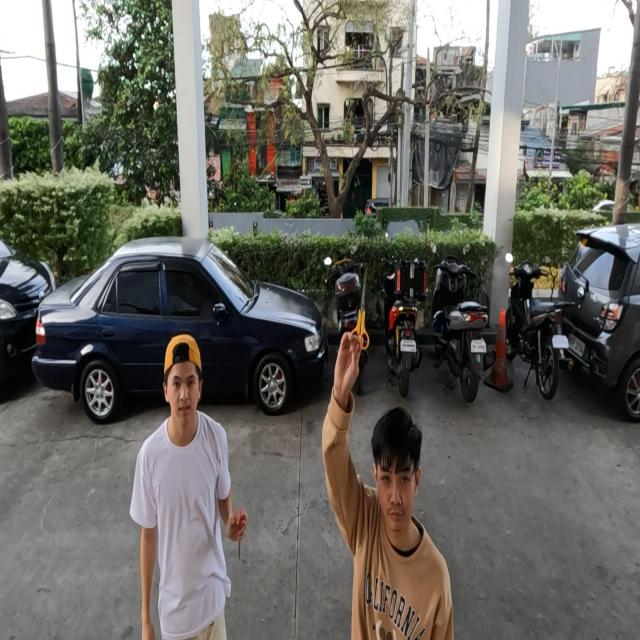scissor: (350, 268, 370, 350), (234, 508, 248, 560)
